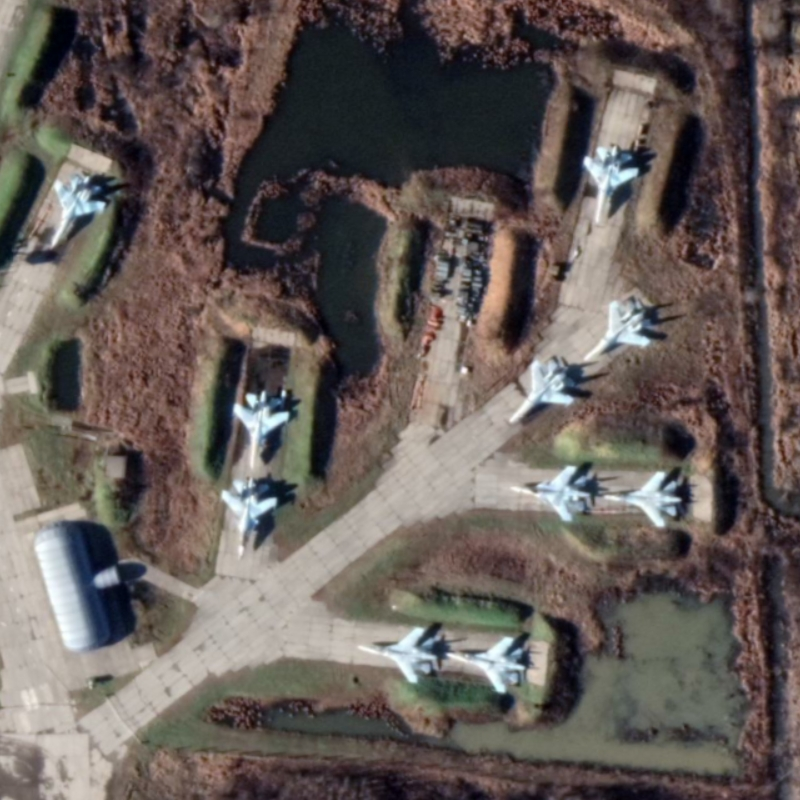A1: (355, 624, 440, 686), (599, 469, 685, 530), (443, 634, 527, 696), (231, 388, 293, 470), (507, 355, 577, 426), (580, 144, 642, 224), (48, 173, 108, 251), (581, 297, 651, 363)
A19: (219, 475, 280, 562), (508, 463, 592, 525)
